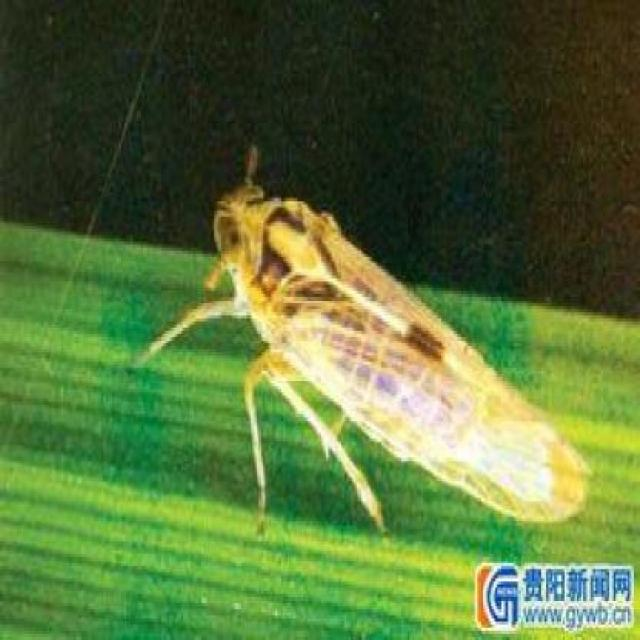brown-planthopper: (218, 177, 580, 525)
